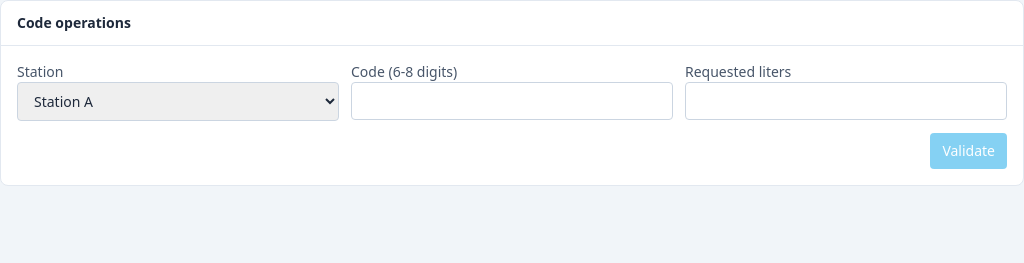
Test: CodeOpsCard › shows the reason when the code is invalid and does not advance
Select "Station A" in the dropdown labelled "Station" at (178, 102), box [17, 82, 339, 121]
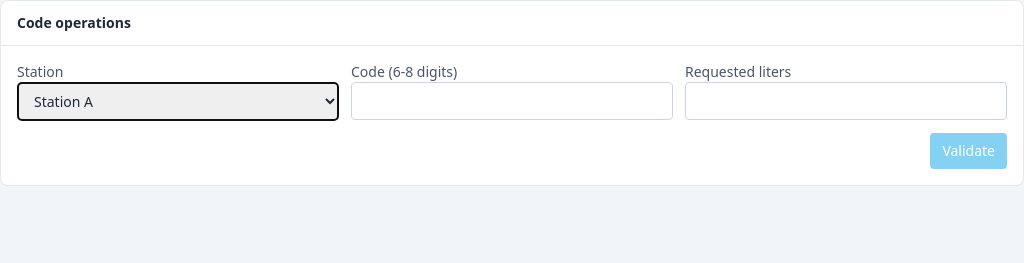
Type "123456" into the field labelled "Code (6-8 digits)" at (512, 101), box [351, 82, 673, 120]
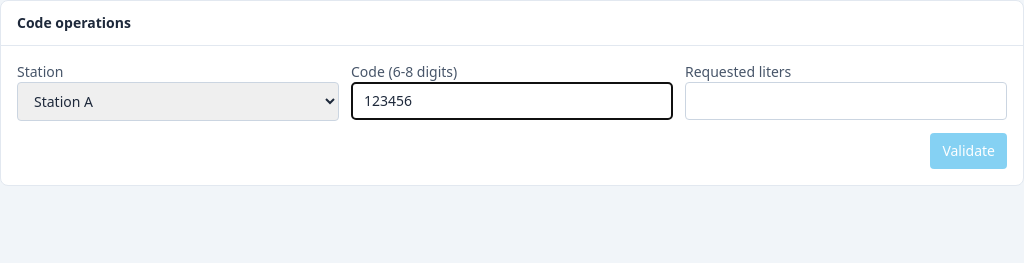
Type "50" into the number field labelled "Requested liters" at (846, 101), box [685, 82, 1007, 120]
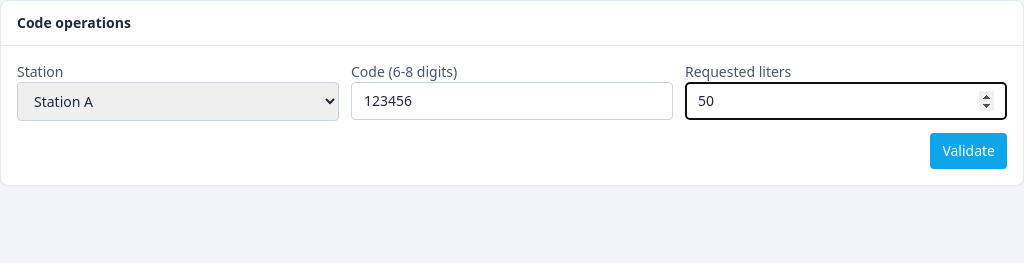
Click the button "Validate" at (969, 151), box [930, 133, 1007, 169]
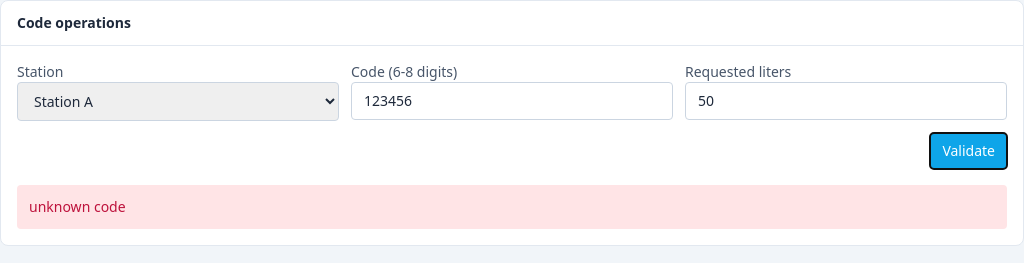
Result: the text "unknown code" is shown at [29, 197, 126, 216]
